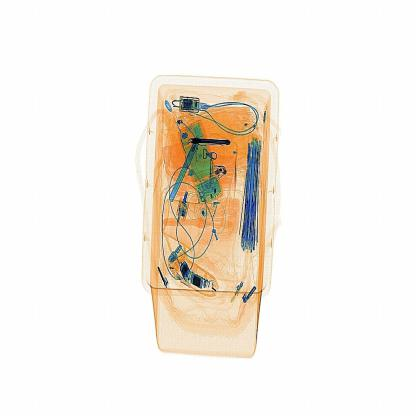knife: (184, 138, 233, 150)
